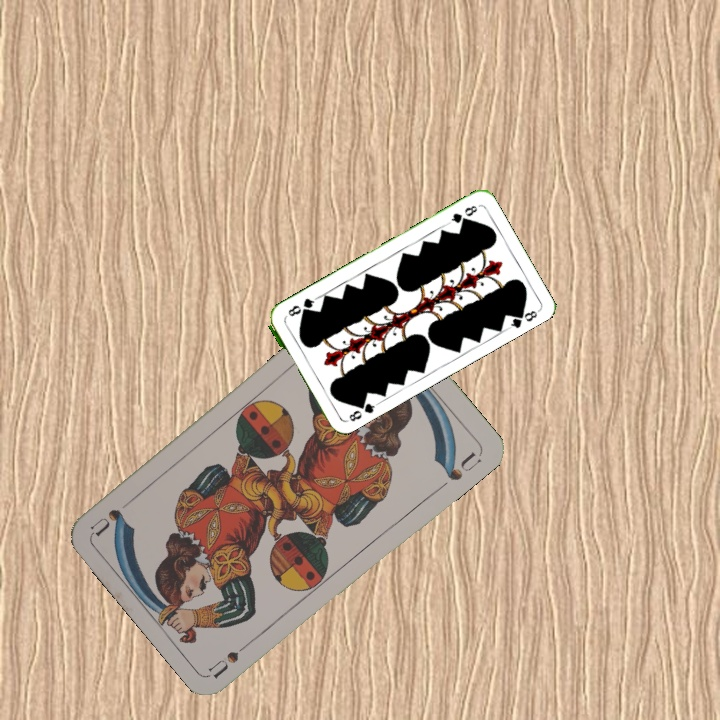G8: (340, 396, 377, 425), (444, 201, 480, 227)
SU: (206, 634, 257, 680)
